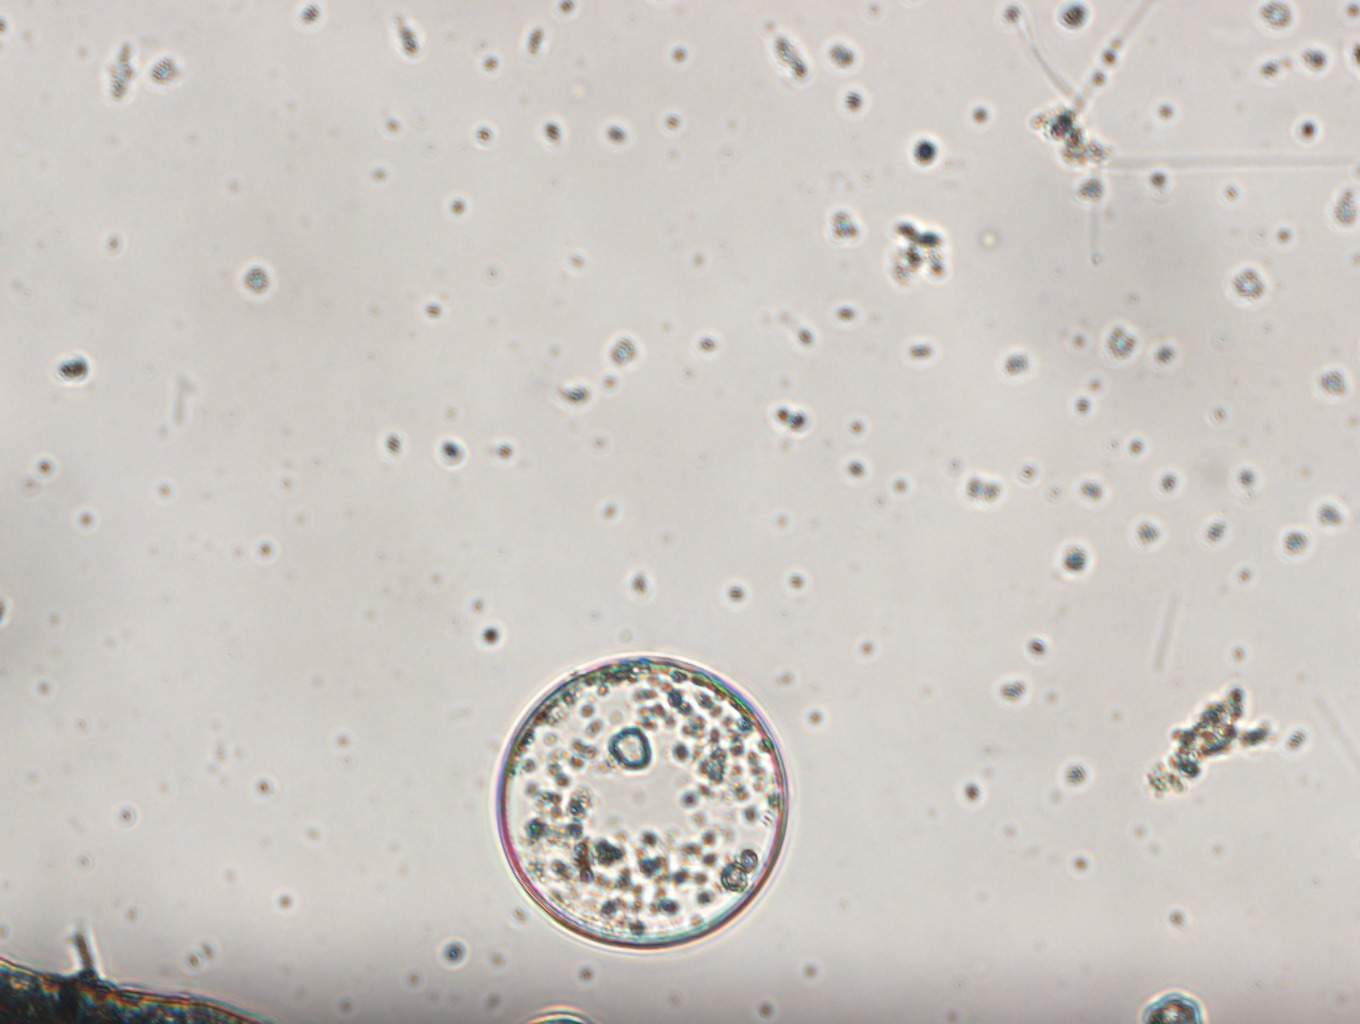coscinodiscus: (485, 648, 794, 956)
